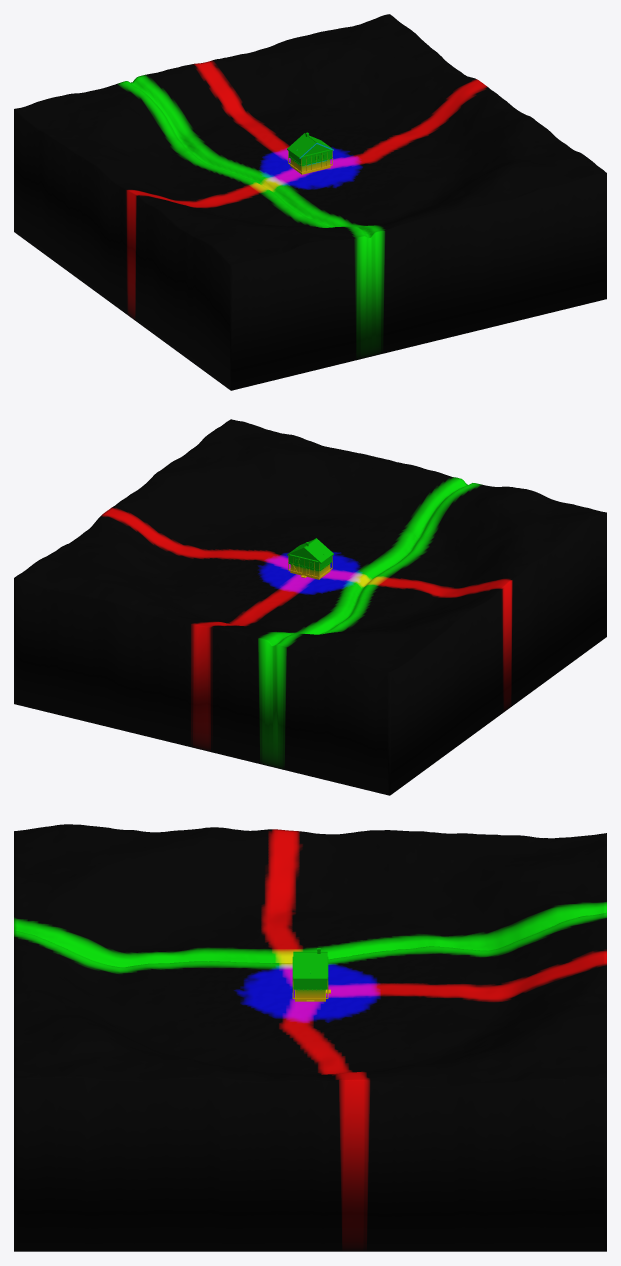
Rendered from stonebrook-kit.glb.
3 views of the same model, one above another, from view 1: azimuth 30°, elevation 25°; view 2: azimuth 150°, elevation 25°; view 3: azimuth 270°, elevation 25° (orthographic). The views are drawn at different scales.
Parts seen in each view (by area): view 1: SM_StonebrookValley_R1, SM_SB_HouseB_R1; view 2: SM_StonebrookValley_R1, SM_SB_HouseB_R1; view 3: SM_StonebrookValley_R1, SM_SB_HouseB_R1.
Part boxes in pixels (<box>): SM_StonebrookValley_R1: <box>14,14,606,390</box>; SM_SB_HouseB_R1: <box>287,132,333,174</box>; SM_StonebrookValley_R1: <box>14,419,606,795</box>; SM_SB_HouseB_R1: <box>287,538,333,579</box>; SM_StonebrookValley_R1: <box>14,824,606,1251</box>; SM_SB_HouseB_R1: <box>292,948,330,1001</box>.
Size of the model in its own units: 120 by 39.68 by 120.
